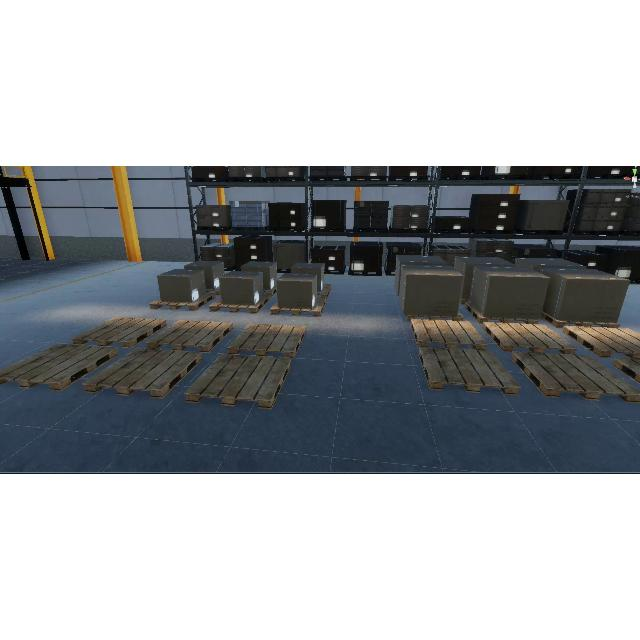wooden_pallet: (510, 351, 640, 402), (83, 348, 203, 400), (184, 353, 292, 409), (0, 343, 118, 392), (417, 347, 520, 395), (71, 316, 168, 348), (482, 322, 577, 353), (145, 319, 233, 352), (227, 324, 307, 358), (562, 325, 640, 358), (410, 319, 488, 350), (465, 301, 538, 323), (541, 311, 620, 329), (209, 295, 271, 314), (270, 297, 327, 317), (150, 293, 215, 309), (406, 309, 464, 320)
